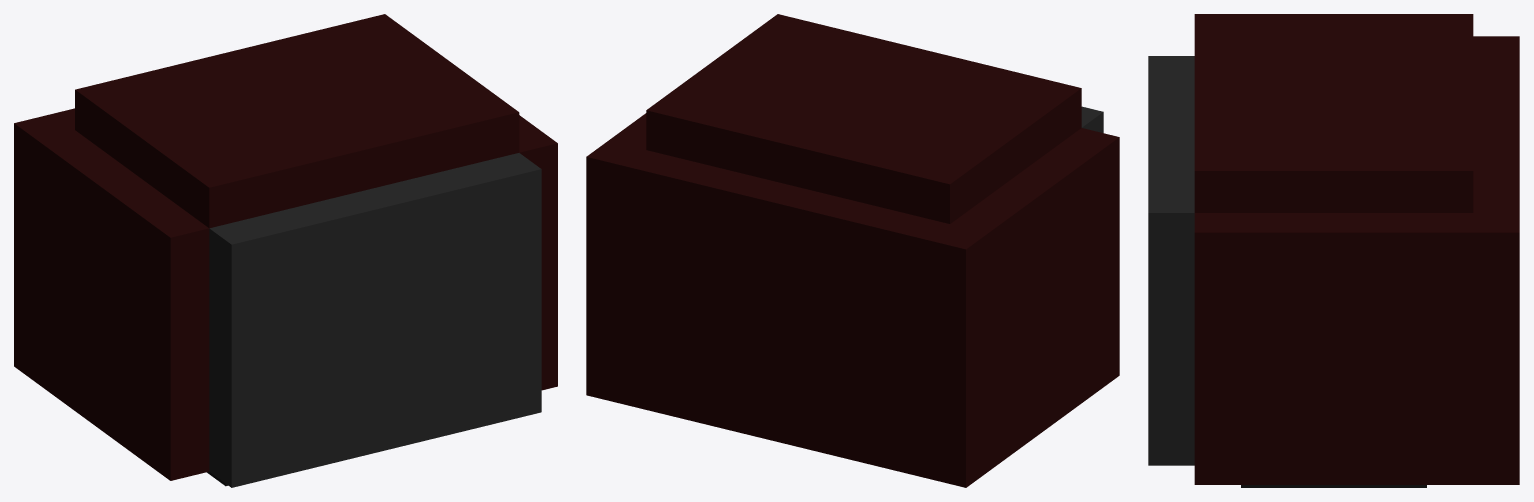
File: ShieldCoop-4.obj
The picture shows the model from 3 angles, left to right: view 1: azimuth 30°, elevation 25°; view 2: azimuth 150°, elevation 25°; view 3: azimuth 270°, elevation 25°; orthographic projection. The views are drawn at different scales.
Size of the model in its own units: 1 by 0.8 by 0.8.
Materials: 1 (1 with a texture image).
